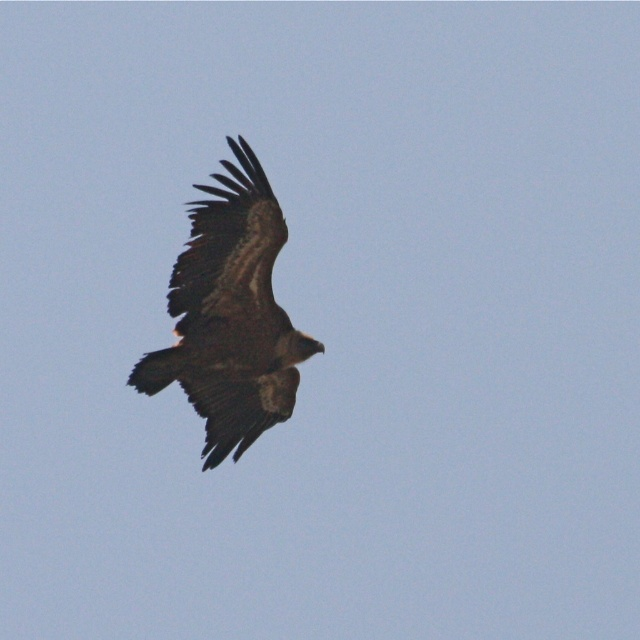Eagle: (126, 130, 327, 474)
